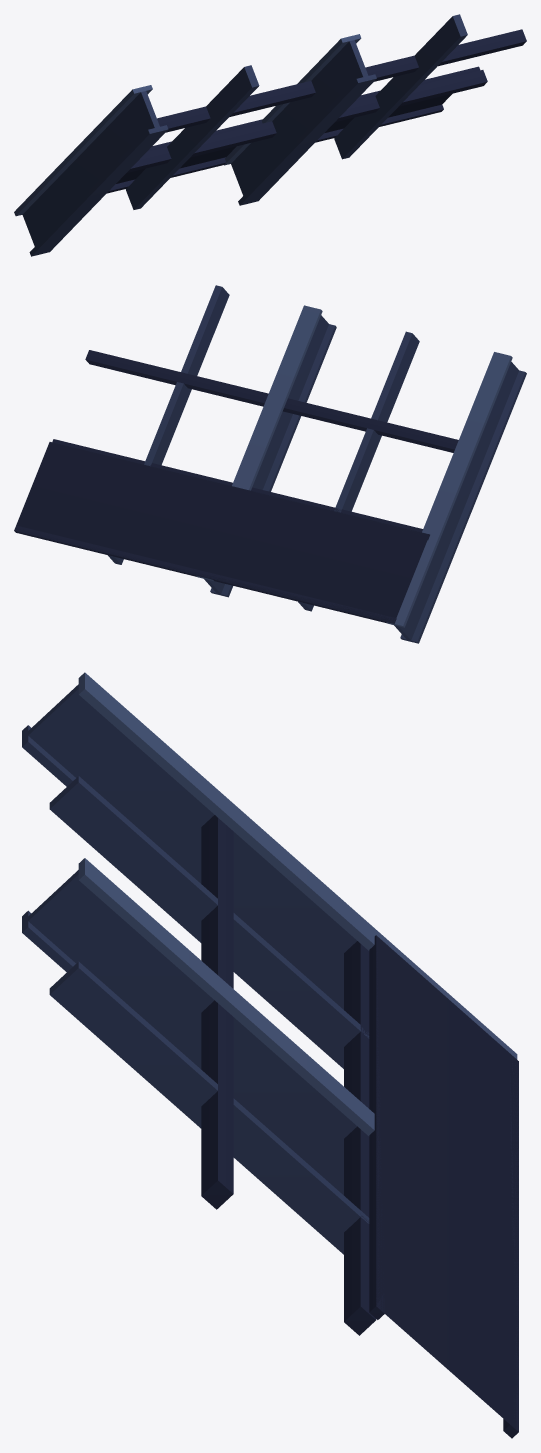
File: SM_Ceiling_Soffit_Open_4m.fbx
3 views of the same model, one above another, from view 1: azimuth 30°, elevation 25°; view 2: azimuth 150°, elevation 25°; view 3: azimuth 270°, elevation 25° (orthographic). The views are drawn at different scales.
Visible parts, largest first — view 1: SM_Ceiling_Soffit_Open_4m; view 2: SM_Ceiling_Soffit_Open_4m; view 3: SM_Ceiling_Soffit_Open_4m.
Boxes of the visible parts, box(x1,y1,x2,y2) form: SM_Ceiling_Soffit_Open_4m: box(14, 14, 526, 256); SM_Ceiling_Soffit_Open_4m: box(14, 285, 526, 643); SM_Ceiling_Soffit_Open_4m: box(22, 672, 518, 1438).
Bounding box in the file's own units: 4.09 × 2.21 × 2.26.
1 material, 1 textured.
